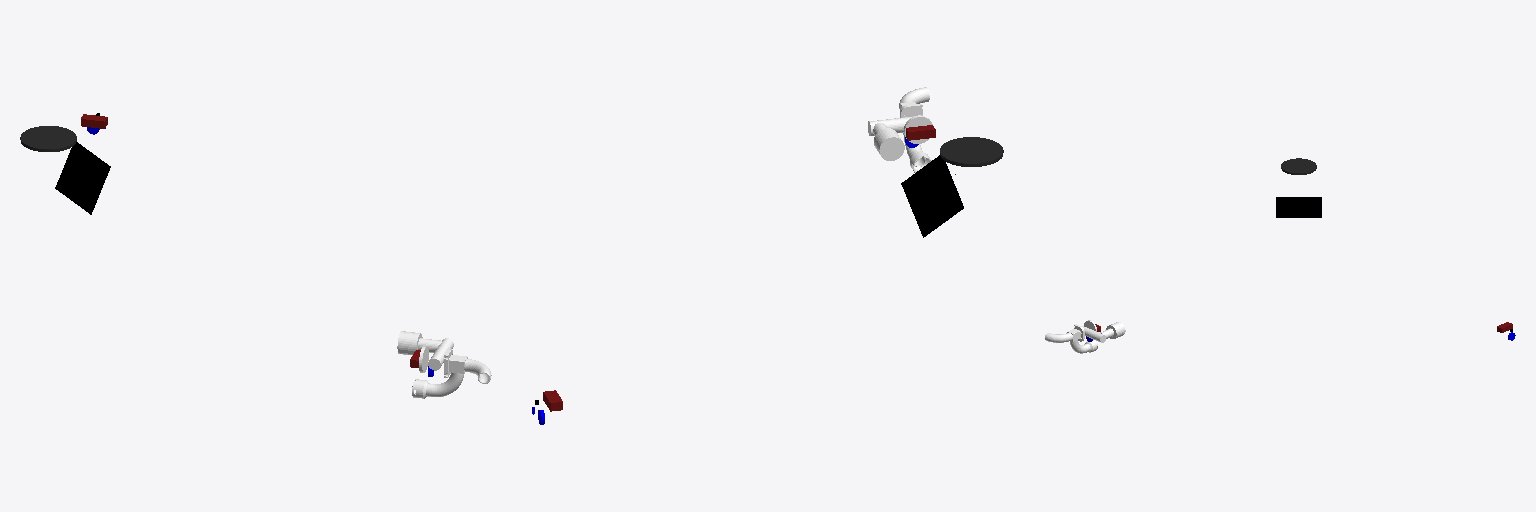
--- Render facts (derived) ---
Views: 3 orthographic renders of the robot side by side, from view 1: azimuth 30°, elevation 25°; view 2: azimuth 150°, elevation 25°; view 3: azimuth 270°, elevation 25°.
Robot: baxter_custom_white — 54 links, 53 joints (15 revolute, 38 fixed); root link base; default pose: every joint at zero.
Links seen in each view (by area): view 1: display, custom_vacuum_link, sonar_ring; view 2: display, sonar_ring, custom_vacuum_link, custom_vacuum_link_side2_base; view 3: display, custom_vacuum_link.
Link boxes in pixels (box(x1,y1,x2,y2)): display: box(55, 142, 110, 214); custom_vacuum_link: box(412, 349, 491, 398); sonar_ring: box(20, 126, 76, 151); display: box(901, 155, 963, 237); sonar_ring: box(940, 137, 1003, 166); custom_vacuum_link: box(899, 87, 931, 172); custom_vacuum_link_side2_base: box(874, 128, 904, 160); display: box(1276, 197, 1321, 217); custom_vacuum_link: box(1045, 324, 1097, 353).
Size in the robot's own frame: 0.9528 by 2.24 by 0.6349 metres.
1 mesh visuals loaded from 12 distinct referenced files (1 Collada DAE); not drawn: 18 (reference not matched to a file when rendering).

The robot description file, URDF, robot "baxter_custom_white":
<?xml version="1.0" ?>
<!-- =================================================================================== -->
<!-- |    This document was autogenerated by xacro from baxter_white_hand.urdf.xacro   | -->
<!-- |    EDITING THIS FILE BY HAND IS NOT RECOMMENDED                                 | -->
<!-- =================================================================================== -->
<robot name="baxter_custom_white" xmlns:xacro="http://ros.org/wiki/xacro">
  <link name="base">
  </link>
  <link name="torso">
    <visual>
      <origin rpy="0 0 0" xyz="0 0 0"/>
      <geometry>
        <mesh filename="package://baxter_description/meshes/torso/base_link.DAE"/>
      </geometry>
    </visual>
    <collision>
      <origin rpy="0 0 0" xyz="0 0 0"/>
      <geometry>
        <mesh filename="package://baxter_description/meshes/torso/base_link_collision.DAE"/>
      </geometry>
    </collision>
    <inertial>
      <origin rpy="0 0 0" xyz="0.000000 0.000000 0.000000"/>
      <mass value="35.336455"/>
      <inertia ixx="1.849155" ixy="-0.000354" ixz="-0.154188" iyy="1.662671" iyz="0.003292" izz="0.802239"/>
    </inertial>
  </link>
  <link name="left_torso_itb">
    <inertial>
      <origin rpy="0 0 0" xyz="0.000000 0.000000 0.000000"/>
      <mass value="0.0001"/>
      <inertia ixx="1e-08" ixy="0" ixz="0" iyy="1e-08" iyz="0" izz="1e-08"/>
    </inertial>
  </link>
  <link name="right_torso_itb">
    <inertial>
      <origin rpy="0 0 0" xyz="0.000000 0.000000 0.000000"/>
      <mass value="0.0001"/>
      <inertia ixx="1e-08" ixy="0" ixz="0" iyy="1e-08" iyz="0" izz="1e-08"/>
    </inertial>
  </link>
  <link name="pedestal">
    <visual>
      <origin rpy="0 0 0" xyz="0 0 0"/>
      <geometry>
        <mesh filename="package://baxter_description/meshes/base/PEDESTAL.DAE"/>
      </geometry>
      <material name="darkgray">
        <color rgba=".2 .2 .2 1"/>
      </material>
    </visual>
    <collision>
      <origin rpy="0 0 0" xyz="0 0 0"/>
      <geometry>
        <mesh filename="package://baxter_description/meshes/base/pedestal_link_collision.DAE"/>
      </geometry>
    </collision>
    <inertial>
      <origin rpy="0 0 0" xyz="0 0 0"/>
      <mass value="60.86397744"/>
      <inertia ixx="5.0635929" ixy="0.00103417" ixz="0.80199628" iyy="6.08689388" iyz="0.00105311" izz="4.96191932"/>
    </inertial>
  </link>
  <link name="head">
    <visual>
      <origin rpy="0 0 0" xyz="0 0 .00953"/>
      <geometry>
        <mesh filename="package://baxter_description/meshes/head/H0.DAE"/>
      </geometry>
      <material name="darkgray">
        <color rgba=".2 .2 .2 1"/>
      </material>
    </visual>
    <collision>
      <origin rpy="0 0 0" xyz="0.0 0 0.0"/>
      <geometry>
        <sphere radius="0.001"/>
      </geometry>
    </collision>
    <inertial>
      <origin rpy="0 0 0" xyz="0 0 0"/>
      <mass value="0.547767"/>
      <inertia ixx="0.004641" ixy="0.000159" ixz="0.000242" iyy="0.003295" iyz="-0.001324" izz="0.003415"/>
    </inertial>
  </link>
  <link name="sonar_ring">
    <visual>
      <origin rpy="0 0 0" xyz="-.0347 0 .00953"/>
      <geometry>
        <cylinder length="0.01" radius="0.085"/>
      </geometry>
      <material name="darkgray">
        <color rgba=".2 .2 .2 1"/>
      </material>
    </visual>
    <collision>
      <origin rpy="0 0 0" xyz="0.0 0 0.0"/>
      <geometry>
        <sphere radius="0.001"/>
      </geometry>
    </collision>
    <inertial>
      <origin rpy="0 0 0" xyz="0 0 0"/>
      <mass value="0.0001"/>
      <inertia ixx="1e-08" ixy="0" ixz="0" iyy="1e-08" iyz="0" izz="1e-08"/>
    </inertial>
  </link>
  <link name="screen">
    <visual>
      <origin rpy="0 -1.57079632679 0" xyz="0 -.00953 -.0347"/>
      <geometry>
        <mesh filename="package://baxter_description/meshes/head/H1.DAE"/>
      </geometry>
      <material name="darkred">
        <color rgba=".5 .1 .1 1"/>
      </material>
    </visual>
    <collision>
      <origin rpy="0 0 0" xyz="0.0 0 0.0"/>
      <geometry>
        <sphere radius="0.001"/>
      </geometry>
    </collision>
    <inertial>
      <origin rpy="0 0 0" xyz="0 0 0"/>
      <mass value="0.440171"/>
      <inertia ixx="0.004006" ixy="0.000230" ixz="0.000002" iyy="0.002800" iyz="0.000029" izz="0.001509"/>
    </inertial>
  </link>
  <link name="display">
    <visual>
      <origin rpy="0.2617993877991494 0 0" xyz="0 0 0"/>
      <geometry>
        <box size="0.218 0.16 0.001"/>
      </geometry>
      <material name="black">
        <color rgba="0 0 0 1"/>
      </material>
    </visual>
    <inertial>
      <origin rpy="0 0 0" xyz="0 0 0"/>
      <mass value="0.0001"/>
      <inertia ixx="1e-08" ixy="0" ixz="0" iyy="1e-08" iyz="0" izz="1e-08"/>
    </inertial>
  </link>
  <link name="head_camera">
    <inertial>
      <origin rpy="0 0 0" xyz="0 0 0"/>
      <mass value="0.0001"/>
      <inertia ixx="1e-08" ixy="0" ixz="0" iyy="1e-08" iyz="0" izz="1e-08"/>
    </inertial>
  </link>
  <link name="dummyhead1">
    <inertial>
      <origin rpy="0 0 0" xyz="0 0 0"/>
      <mass value="0.0001"/>
      <inertia ixx="1e-08" ixy="0" ixz="0" iyy="1e-08" iyz="0" izz="1e-08"/>
    </inertial>
  </link>
  <link name="collision_head_link_1">
    <visual>
      <origin rpy="0 0 0" xyz="0 0 0"/>
      <geometry>
        <sphere radius="0.001"/>
      </geometry>
      <material name="red">
        <color rgba="0.8 0.3 0.3 0.3"/>
      </material>
    </visual>
    <collision>
      <origin rpy="0 0 0.0" xyz="-0.07 -0.04 0.0"/>
      <geometry>
        <sphere radius="0.22"/>
      </geometry>
    </collision>
    <inertial>
      <origin rpy="0 0 0" xyz="0 0 0"/>
      <mass value="0.0001"/>
      <inertia ixx="1e-08" ixy="0" ixz="0" iyy="1e-08" iyz="0" izz="1e-08"/>
    </inertial>
  </link>
  <link name="collision_head_link_2">
    <visual>
      <origin rpy="0 0 0" xyz="0 0 0"/>
      <geometry>
        <sphere radius="0.001"/>
      </geometry>
      <material name="red">
        <color rgba="0.8 0.3 0.3 0.3"/>
      </material>
    </visual>
    <collision>
      <origin rpy="0 0 0" xyz="-0.07 0.04 0.00"/>
      <geometry>
        <sphere radius="0.22"/>
      </geometry>
    </collision>
    <inertial>
      <origin rpy="0 0 0" xyz="0 0 0"/>
      <mass value="0.0001"/>
      <inertia ixx="1e-08" ixy="0" ixz="0" iyy="1e-08" iyz="0" izz="1e-08"/>
    </inertial>
  </link>
  <joint name="collision_head_1" type="fixed">
    <origin rpy="0 0 0" xyz="0.11 0 0.75"/>
    <parent link="base"/>
    <child link="collision_head_link_1"/>
  </joint>
  <joint name="collision_head_2" type="fixed">
    <origin rpy="0 0 0" xyz="0.11 0 0.75"/>
    <parent link="base"/>
    <child link="collision_head_link_2"/>
  </joint>
  <joint name="dummy" type="fixed">
    <origin rpy="0 0 0" xyz="0 0 0"/>
    <parent link="head"/>
    <child link="dummyhead1"/>
  </joint>
  <joint name="torso_t0" type="fixed">
    <origin rpy="0 0 0" xyz="0 0 0"/>
    <parent link="base"/>
    <child link="torso"/>
    <limit effort="50000" lower="-3.01" upper="3.01" velocity="10000"/>
  </joint>
  <joint name="left_torso_itb_fixed" type="fixed">
    <origin rpy="-1.57079632679 3.1415 0" xyz="-0.08897 0.15593 0.389125"/>
    <parent link="torso"/>
    <child link="left_torso_itb"/>
  </joint>
  <joint name="right_torso_itb_fixed" type="fixed">
    <origin rpy="1.57079632679 0 0" xyz="-0.08897 -0.15593 0.389125"/>
    <parent link="torso"/>
    <child link="right_torso_itb"/>
  </joint>
  <joint name="pedestal_fixed" type="fixed">
    <origin rpy="0 0 0" xyz="0.0 0.0 0.0"/>
    <parent link="torso"/>
    <child link="pedestal"/>
  </joint>
  <joint name="head_pan" type="revolute">
    <origin rpy="0 0 0" xyz="0.06 0 0.686"/>
    <axis xyz="0 0 1"/>
    <parent link="torso"/>
    <child link="head"/>
    <limit effort="50000" lower="-1.57079632679" upper="1.57079632679" velocity="10000"/>
    <dynamics damping="0.7" friction="0.0"/>
  </joint>
  <joint name="head_nod" type="fixed">
    <origin rpy="1.75057 0 1.57079632679" xyz=".1227 0 0"/>
    <parent link="head"/>
    <child link="screen"/>
  </joint>
  <joint name="head_camera" type="fixed">
    <origin rpy="1.75057 0 1.57079632679" xyz="0.12839 0 0.06368"/>
    <parent link="head"/>
    <child link="head_camera"/>
  </joint>
  <joint name="display_joint" type="fixed">
    <origin rpy="0 0 0" xyz="0.0 -0.016 0.0"/>
    <parent link="screen"/>
    <child link="display"/>
  </joint>
  <joint name="sonar_s0" type="fixed">
    <origin rpy="0 0 0" xyz="0.0947 0 .817"/>
    <axis xyz="0 0 1"/>
    <parent link="torso"/>
    <child link="sonar_ring"/>
  </joint>
  <link name="right_arm_mount">
    <!-- all defaults -->
    <gravity>0</gravity>
    <inertial>
      <origin rpy="0 0 0" xyz="0 0 0"/>
      <mass value="0.0001"/>
      <inertia ixx="1e-08" ixy="0" ixz="0" iyy="1e-08" iyz="0" izz="1e-08"/>
    </inertial>
  </link>
  <link name="right_upper_shoulder">
    <gravity>0</gravity>
    <visual>
      <origin rpy="0 0 0" xyz="0 0 0"/>
      <geometry>
        <mesh filename="package://baxter_description/meshes/upper_shoulder/S0.DAE"/>
      </geometry>
      <material name="darkred">
        <color rgba=".5 .1 .1 1"/>
      </material>
    </visual>
    <collision>
      <origin rpy="0 0 0" xyz="0 0 0.1361"/>
      <geometry>
        <cylinder length="0.2722" radius="0.06"/>
      </geometry>
    </collision>
    <inertial>
      <origin rpy="0 0 0" xyz="0.01783 0.00086 0.19127"/>
      <mass value="5.70044"/>
      <inertia ixx="0.04709102262" ixy="0.00012787556" ixz="0.00614870039" iyy="0.03766976455" iyz="0.00078086899" izz="0.03595988478"/>
    </inertial>
  </link>
  <link name="right_lower_shoulder">
    <gravity>0</gravity>
    <visual>
      <origin rpy="0 0 0" xyz="0 0 0"/>
      <geometry>
        <mesh filename="package://baxter_description/meshes/lower_shoulder/S1.DAE"/>
      </geometry>
      <material name="darkred">
        <color rgba=".5 .1 .1 1"/>
      </material>
    </visual>
    <collision>
      <origin rpy="0 0 0" xyz="0 0 0"/>
      <geometry>
        <cylinder length="0.12" radius="0.06"/>
      </geometry>
    </collision>
    <inertial>
      <origin rpy="0 0 0" xyz="0.06845 0.00269 -0.00529"/>
      <mass value="3.22698"/>
      <inertia ixx="0.01175209419" ixy="-0.00030096398" ixz="0.00207675762" iyy="0.0278859752" iyz="-0.00018821993" izz="0.02078749298"/>
    </inertial>
  </link>
  <link name="right_upper_elbow">
    <gravity>0</gravity>
    <visual>
      <origin rpy="0 0 0" xyz="0 0 0"/>
      <geometry>
        <mesh filename="package://baxter_description/meshes/upper_elbow/E0.DAE"/>
      </geometry>
      <material name="darkred">
        <color rgba=".5 .1 .1 1"/>
      </material>
    </visual>
    <collision>
      <origin rpy="0 0 0" xyz="0 0 -0.0535"/>
      <geometry>
        <cylinder length="0.107" radius="0.06"/>
      </geometry>
    </collision>
    <inertial>
      <origin rpy="0 0 0" xyz="-0.00276 0.00132 0.18086"/>
      <mass value="4.31272"/>
      <inertia ixx="0.02661733557" ixy="0.00029270634" ixz="0.00392189887" iyy="0.02844355207" iyz="0.0010838933" izz="0.01248008322"/>
    </inertial>
  </link>
  <link name="right_upper_elbow_visual">
    <gravity>0</gravity>
    <collision>
      <origin rpy="0 0 0" xyz="0 0 0.1365"/>
      <geometry>
        <cylinder length="0.273" radius="0.06"/>
      </geometry>
    </collision>
    <inertial>
      <origin rpy="0 0 0" xyz="0 0 0"/>
      <mass value="0.0001"/>
      <inertia ixx="1e-08" ixy="0" ixz="0" iyy="1e-08" iyz="0" izz="1e-08"/>
    </inertial>
  </link>
  <link name="right_lower_elbow">
    <gravity>0</gravity>
    <visual>
      <origin rpy="0 0 0" xyz="0 0 0"/>
      <geometry>
        <mesh filename="package://baxter_description/meshes/lower_elbow/E1.DAE"/>
      </geometry>
      <material name="darkred">
        <color rgba=".5 .1 .1 1"/>
      </material>
    </visual>
    <collision>
      <origin rpy="0 0 0" xyz="0.0 0.0 0.0"/>
      <geometry>
        <cylinder length="0.10" radius="0.06"/>
      </geometry>
    </collision>
    <inertial>
      <origin rpy="0 0 0" xyz="0.02611 0.00159 -0.01117"/>
      <mass value="2.07206"/>
      <inertia ixx="0.00711582686" ixy="0.00036036173" ixz="0.0007459496" iyy="0.01318227876" iyz="-0.00019663418" izz="0.00926852064"/>
    </inertial>
  </link>
  <link name="right_upper_forearm">
    <gravity>0</gravity>
    <visual>
      <origin rpy="0 0 0" xyz="0 0 0"/>
      <geometry>
        <mesh filename="package://baxter_description/meshes/upper_forearm/W0.DAE"/>
      </geometry>
      <material name="darkred">
        <color rgba=".5 .1 .1 1"/>
      </material>
    </visual>
    <collision>
      <origin rpy="0 0 0" xyz="0 0 -0.044"/>
      <geometry>
        <cylinder length="0.088" radius="0.06"/>
      </geometry>
    </collision>
    <inertial>
      <origin rpy="0 0 0" xyz="-0.00168 0.0046 0.13952"/>
      <mass value="2.24665"/>
      <inertia ixx="0.01667742825" ixy="0.00018403705" ixz="0.00018657629" iyy="0.01675457264" iyz="-0.00064732352" izz="0.0037463115"/>
    </inertial>
  </link>
  <link name="right_upper_forearm_visual">
    <gravity>0</gravity>
    <collision>
      <origin rpy="0 0 0" xyz="0 0 0.136"/>
      <geometry>
        <cylinder length="0.272" radius="0.06"/>
      </geometry>
    </collision>
    <inertial>
      <origin rpy="0 0 0" xyz="0 0 0"/>
      <mass value="0.0001"/>
      <inertia ixx="1e-08" ixy="0" ixz="0" iyy="1e-08" iyz="0" izz="1e-08"/>
    </inertial>
  </link>
  <link name="right_arm_itb">
    <gravity>0</gravity>
    <inertial>
      <origin rpy="0 0 0" xyz="0.000000 0.000000 0.000000"/>
      <mass value="0.0001"/>
      <inertia ixx="1e-08" ixy="0" ixz="0" iyy="1e-08" iyz="0" izz="1e-08"/>
    </inertial>
  </link>
  <link name="right_lower_forearm">
    <gravity>0</gravity>
    <visual>
      <origin rpy="0 0 0" xyz="0 0 0"/>
      <geometry>
        <mesh filename="package://baxter_description/meshes/lower_forearm/W1.DAE"/>
      </geometry>
      <material name="darkred">
        <color rgba=".5 .1 .1 1"/>
      </material>
    </visual>
    <collision>
      <origin rpy="0 0 0" xyz="0 0 0"/>
      <geometry>
        <cylinder length="0.10" radius="0.06"/>
      </geometry>
    </collision>
    <inertial>
      <origin rpy="0 0 0" xyz="0.06041 0.00697 0.006"/>
      <mass value="1.60979"/>
      <inertia ixx="0.00387607152" ixy="-0.00044384784" ixz="-0.00021115038" iyy="0.00700537914" iyz="0.00015348067" izz="0.0055275524"/>
    </inertial>
  </link>
  <link name="right_wrist">
    <gravity>0</gravity>
    <visual>
      <origin rpy="0 0 0" xyz="0 0 0"/>
      <geometry>
        <mesh filename="package://baxter_description/meshes/wrist/W2.DAE"/>
      </geometry>
      <material name="lightgrey">
        <color rgba=".1 .1 .1 1"/>
      </material>
    </visual>
    <collision>
      <origin rpy="0 0 0" xyz="0 0 0"/>
      <geometry>
        <cylinder length="0.165" radius="0.06"/>
      </geometry>
    </collision>
    <inertial>
      <origin rpy="0 0 0" xyz="0.00198 0.00125 0.01855"/>
      <mass value="0.35093"/>
      <inertia ixx="0.00025289155" ixy="0.00000575311" ixz="-0.00000159345" iyy="0.0002688601" iyz="-0.00000519818" izz="0.0003074118"/>
    </inertial>
  </link>
  <link name="right_hand">
    <gravity>0</gravity>
    <collision>
      <origin rpy="0 0 0" xyz="0 0 -0.0232"/>
      <geometry>
        <cylinder length="0.0464" radius="0.04"/>
      </geometry>
    </collision>
    <inertial>
      <origin rpy="0 0 0" xyz="0.01093 0.00042 -0.01532"/>
      <mass value="0.19125"/>
      <inertia ixx="0.00017588" ixy="0.00000147073" ixz="0.0000243633" iyy="0.00021166377" iyz="0.00000172689" izz="0.00023745397"/>
    </inertial>
  </link>
  <link name="right_hand_camera">
    <gravity>0</gravity>
    <visual>
      <origin rpy="0 0 0" xyz="0 0 0"/>
      <geometry>
        <cylinder length="0.01" radius="0.02"/>
      </geometry>
      <material name="blue">
        <color rgba="0 0 1 0.8"/>
      </material>
    </visual>
    <inertial>
      <origin rpy="0 0 0" xyz="0 0 0"/>
      <mass value="0.0001"/>
      <inertia ixx="1e-08" ixy="0" ixz="0" iyy="1e-08" iyz="0" izz="1e-08"/>
    </inertial>
  </link>
  <link name="right_hand_camera_axis">
    <gravity>0</gravity>
    <inertial>
      <origin rpy="0 0 0" xyz="0 0 0"/>
      <mass value="0.0001"/>
      <inertia ixx="1e-08" ixy="0" ixz="0" iyy="1e-08" iyz="0" izz="1e-08"/>
    </inertial>
  </link>
  <link name="right_hand_range">
    <gravity>0</gravity>
    <visual>
      <origin rpy="0 0 0" xyz="0 0 0"/>
      <geometry>
        <box size="0.005 .02 .005"/>
      </geometry>
      <material name="blue">
        <color rgba="0 0 1 0.8"/>
      </material>
    </visual>
    <inertial>
      <origin rpy="0 0 0" xyz="0 0 0"/>
      <mass value="0.0001"/>
      <inertia ixx="1e-08" ixy="0" ixz="0" iyy="1e-08" iyz="0" izz="1e-08"/>
    </inertial>
  </link>
  <link name="right_hand_accelerometer">
    <gravity>0</gravity>
    <visual>
      <origin rpy="0 0 0" xyz="0 0 0"/>
      <geometry>
        <box size="0.01 0.01 0.01"/>
      </geometry>
      <material name="black">
        <color rgba="0 0 0 1"/>
      </material>
    </visual>
    <inertial>
      <origin rpy="0 0 0" xyz="0.000000 0.000000 0.000000"/>
      <mass value="0.0001"/>
      <inertia ixx="1e-08" ixy="0" ixz="0" iyy="1e-08" iyz="0" izz="1e-08"/>
    </inertial>
  </link>
  <link name="right_gripper_base">
    <gravity>0</gravity>
    <visual>
      <origin rpy="0 0 0" xyz="0 0 -0.02"/>
      <geometry>
        <box size="0.025 0.075 0.035"/>
      </geometry>
      <material name="darkred">
        <color rgba=".5 .1 .1 1"/>
      </material>
    </visual>
    <inertial>
      <origin rpy="0 0 0" xyz="0.000000 0.000000 0.000000"/>
      <mass value="0.0001"/>
      <inertia ixx="1e-08" ixy="0" ixz="0" iyy="1e-08" iyz="0" izz="1e-08"/>
    </inertial>
  </link>
  <link name="right_gripper">
    <gravity>0</gravity>
    <visual>
      <origin rpy="0 0 0" xyz="0 0 0"/>
      <geometry>
        <box size="0.01 0.01 0.01"/>
      </geometry>
      <material name="black">
        <color rgba="0 0 0 1"/>
      </material>
    </visual>
    <inertial>
      <origin rpy="0 0 0" xyz="0.000000 0.000000 0.000000"/>
      <mass value="0.0001"/>
      <inertia ixx="1e-08" ixy="0" ixz="0" iyy="1e-08" iyz="0" izz="1e-08"/>
    </inertial>
  </link>
  <joint name="right_torso_arm_mount" type="fixed">
    <origin rpy="0 0 -0.7854" xyz="0.024645 -0.219645 0.118588"/>
    <parent link="torso"/>
    <child link="right_arm_mount"/>
  </joint>
  <joint name="right_s0" type="revolute">
    <origin rpy="0 0 0" xyz="0.055695 0 0.011038"/>
    <axis xyz="0 0 1"/>
    <parent link="right_arm_mount"/>
    <child link="right_upper_shoulder"/>
    <limit effort="50.0" lower="-1.70167993878" upper="1.70167993878" velocity="1.5"/>
    <dynamics damping="0.7" friction="0.0"/>
  </joint>
  <joint name="right_s1" type="revolute">
    <origin rpy="-1.57079632679 0 0" xyz="0.069 0 0.27035"/>
    <axis xyz="0 0 1"/>
    <parent link="right_upper_shoulder"/>
    <child link="right_lower_shoulder"/>
    <limit effort="100.0" lower="-2.147" upper="1.047" velocity="1.5"/>
    <dynamics damping="0.7" friction="0.0"/>
  </joint>
  <joint name="right_e0" type="revolute">
    <origin rpy="1.57079632679 0 1.57079632679" xyz="0.102 0 0"/>
    <axis xyz="0 0 1"/>
    <parent link="right_lower_shoulder"/>
    <child link="right_upper_elbow"/>
    <limit effort="50.0" lower="-3.05417993878" upper="3.05417993878" velocity="1.5"/>
    <dynamics damping="0.7" friction="0.0"/>
  </joint>
  <joint name="right_e0_fixed" type="fixed">
    <origin rpy="1.57079632679 0 1.57079632679" xyz="0.107 0 0"/>
    <axis xyz="0 0 1"/>
    <parent link="right_lower_shoulder"/>
    <child link="right_upper_elbow_visual"/>
  </joint>
  <joint name="right_e1" type="revolute">
    <origin rpy="-1.57079632679 -1.57079632679 0" xyz="0.069 0 0.26242"/>
    <axis xyz="0 0 1"/>
    <parent link="right_upper_elbow"/>
    <child link="right_lower_elbow"/>
    <limit effort="50.0" lower="-0.05" upper="2.618" velocity="1.5"/>
    <dynamics damping="0.7" friction="0.0"/>
  </joint>
  <joint name="right_w0" type="revolute">
    <origin rpy="1.57079632679 0 1.57079632679" xyz="0.10359 0 0"/>
    <axis xyz="0 0 1"/>
    <parent link="right_lower_elbow"/>
    <child link="right_upper_forearm"/>
    <limit effort="15.0" lower="-3.059" upper="3.059" velocity="4.0"/>
    <dynamics damping="0.7" friction="0.0"/>
  </joint>
  <joint name="right_w0_fixed" type="fixed">
    <origin rpy="1.57079632679 0 1.57079632679" xyz="0.088 0 0"/>
    <axis xyz="0 0 1"/>
    <parent link="right_lower_elbow"/>
    <child link="right_upper_forearm_visual"/>
  </joint>
  <joint name="right_w0_to_itb_fixed" type="fixed">
    <origin rpy="-1.57079632679 0 1.57079632679" xyz="-0.0565 0 0.12"/>
    <axis xyz="0 0 1"/>
    <parent link="right_upper_forearm"/>
    <child link="right_arm_itb"/>
  </joint>
  <joint name="right_w1" type="revolute">
    <origin rpy="-1.57079632679 -1.57079632679 0" xyz="0.01 0 0.2707"/>
    <axis xyz="0 0 1"/>
    <parent link="right_upper_forearm"/>
    <child link="right_lower_forearm"/>
    <limit effort="15.0" lower="-1.57079632679" upper="2.094" velocity="4.0"/>
    <dynamics damping="0.7" friction="0.0"/>
  </joint>
  <joint name="right_w2" type="revolute">
    <origin rpy="1.57079632679 0 1.57079632679" xyz="0.115975 0 0"/>
    <axis xyz="0 0 1"/>
    <parent link="right_lower_forearm"/>
    <child link="right_wrist"/>
    <limit effort="15.0" lower="-3.059" upper="3.059" velocity="4.0"/>
    <dynamics damping="0.7" friction="0.0"/>
  </joint>
  <joint name="right_hand" type="fixed">
    <origin rpy="0 0 0" xyz="0 0 0.11355"/>
    <axis xyz="0 0 1"/>
    <parent link="right_wrist"/>
    <child link="right_hand"/>
    <dynamics damping="0.7" friction="0.0"/>
  </joint>
  <joint name="right_hand_camera" type="fixed">
    <origin rpy="0 0 -1.57079633" xyz="0.03825 0.012 0.015355"/>
    <parent link="right_hand"/>
    <child link="right_hand_camera"/>
  </joint>
  <joint name="right_hand_camera_axis" type="fixed">
    <origin rpy="0 0 0" xyz="0.03825 0.012 0.015355"/>
    <parent link="right_hand"/>
    <child link="right_hand_camera_axis"/>
  </joint>
  <joint name="right_hand_range" type="fixed">
    <origin rpy="0 -1.57079632679 -1.57079632679" xyz="0.032 -0.020245 0.0288"/>
    <parent link="right_hand"/>
    <child link="right_hand_range"/>
  </joint>
  <joint name="right_hand_accelerometer" type="fixed">
    <origin rpy="0 0 0" xyz="0.00198 0.000133 -0.0146"/>
    <parent link="right_hand"/>
    <child link="right_hand_accelerometer"/>
  </joint>
  <joint name="right_gripper_base" type="fixed">
    <origin rpy="0 0 0" xyz="0 0 0"/>
    <parent link="right_hand"/>
    <child link="right_gripper_base"/>
  </joint>
  <joint name="right_endpoint" type="fixed">
    <origin rpy="0 0 0" xyz="0.0 0 0.025"/>
    <parent link="right_gripper_base"/>
    <child link="right_gripper"/>
  </joint>
  <link name="left_arm_mount">
    <!-- all defaults -->
    <gravity>0</gravity>
    <inertial>
      <origin rpy="0 0 0" xyz="0 0 0"/>
      <mass value="0.0001"/>
      <inertia ixx="1e-08" ixy="0" ixz="0" iyy="1e-08" iyz="0" izz="1e-08"/>
    </inertial>
  </link>
  <link name="left_upper_shoulder">
    <gravity>0</gravity>
    <visual>
      <origin rpy="0 0 0" xyz="0 0 0"/>
      <geometry>
        <mesh filename="package://baxter_description/meshes/upper_shoulder/S0.DAE"/>
      </geometry>
      <material name="darkred">
        <color rgba=".5 .1 .1 1"/>
      </material>
    </visual>
    <collision>
      <origin rpy="0 0 0" xyz="0 0 0.1361"/>
      <geometry>
        <cylinder length="0.2722" radius="0.06"/>
      </geometry>
    </collision>
    <inertial>
      <origin rpy="0 0 0" xyz="0.01783 0.00086 0.19127"/>
      <mass value="5.70044"/>
      <inertia ixx="0.04709102262" ixy="0.00012787556" ixz="0.00614870039" iyy="0.03766976455" iyz="0.00078086899" izz="0.03595988478"/>
    </inertial>
  </link>
  <link name="left_lower_shoulder">
    <gravity>0</gravity>
    <visual>
      <origin rpy="0 0 0" xyz="0 0 0"/>
      <geometry>
        <mesh filename="package://baxter_description/meshes/lower_shoulder/S1.DAE"/>
      </geometry>
      <material name="darkred">
        <color rgba=".5 .1 .1 1"/>
      </material>
    </visual>
    <collision>
      <origin rpy="0 0 0" xyz="0 0 0"/>
      <geometry>
        <cylinder length="0.12" radius="0.06"/>
      </geometry>
    </collision>
    <inertial>
      <origin rpy="0 0 0" xyz="0.06845 0.00269 -0.00529"/>
      <mass value="3.22698"/>
      <inertia ixx="0.01175209419" ixy="-0.00030096398" ixz="0.00207675762" iyy="0.0278859752" iyz="-0.00018821993" izz="0.02078749298"/>
    </inertial>
  </link>
  <link name="left_upper_elbow">
    <gravity>0</gravity>
    <visual>
      <origin rpy="0 0 0" xyz="0 0 0"/>
      <geometry>
        <mesh filename="package://baxter_description/meshes/upper_elbow/E0.DAE"/>
      </geometry>
      <material name="darkred">
        <color rgba=".5 .1 .1 1"/>
      </material>
    </visual>
    <collision>
      <origin rpy="0 0 0" xyz="0 0 -0.0535"/>
      <geometry>
        <cylinder length="0.107" radius="0.06"/>
      </geometry>
    </collision>
    <inertial>
      <origin rpy="0 0 0" xyz="-0.00276 0.00132 0.18086"/>
      <mass value="4.31272"/>
      <inertia ixx="0.02661733557" ixy="0.00029270634" ixz="0.00392189887" iyy="0.02844355207" iyz="0.0010838933" izz="0.01248008322"/>
    </inertial>
  </link>
  <link name="left_upper_elbow_visual">
    <gravity>0</gravity>
    <collision>
      <origin rpy="0 0 0" xyz="0 0 0.1365"/>
      <geometry>
        <cylinder length="0.273" radius="0.06"/>
      </geometry>
    </collision>
    <inertial>
      <origin rpy="0 0 0" xyz="0 0 0"/>
      <mass value="0.0001"/>
      <inertia ixx="1e-08" ixy="0" ixz="0" iyy="1e-08" iyz="0" izz="1e-08"/>
    </inertial>
  </link>
  <link name="left_lower_elbow">
    <gravity>0</gravity>
    <visual>
      <origin rpy="0 0 0" xyz="0 0 0"/>
      <geometry>
        <mesh filename="package://baxter_description/meshes/lower_elbow/E1.DAE"/>
      </geometry>
      <material name="darkred">
        <color rgba=".5 .1 .1 1"/>
      </material>
    </visual>
    <collision>
      <origin rpy="0 0 0" xyz="0.0 0.0 0.0"/>
      <geometry>
        <cylinder length="0.10" radius="0.06"/>
      </geometry>
    </collision>
    <inertial>
      <origin rpy="0 0 0" xyz="0.02611 0.00159 -0.01117"/>
      <mass value="2.07206"/>
      <inertia ixx="0.00711582686" ixy="0.00036036173" ixz="0.0007459496" iyy="0.01318227876" iyz="-0.00019663418" izz="0.00926852064"/>
    </inertial>
  </link>
  <link name="left_upper_forearm">
    <gravity>0</gravity>
    <visual>
      <origin rpy="0 0 0" xyz="0 0 0"/>
      <geometry>
        <mesh filename="package://baxter_description/meshes/upper_forearm/W0.DAE"/>
      </geometry>
      <material name="darkred">
        <color rgba=".5 .1 .1 1"/>
      </material>
    </visual>
    <collision>
      <origin rpy="0 0 0" xyz="0 0 -0.044"/>
      <geometry>
        <cylinder length="0.088" radius="0.06"/>
      </geometry>
    </collision>
    <inertial>
      <origin rpy="0 0 0" xyz="-0.00168 0.0046 0.13952"/>
      <mass value="2.24665"/>
      <inertia ixx="0.01667742825" ixy="0.00018403705" ixz="0.00018657629" iyy="0.01675457264" iyz="-0.00064732352" izz="0.0037463115"/>
    </inertial>
  </link>
  <link name="left_upper_forearm_visual">
    <gravity>0</gravity>
    <collision>
      <origin rpy="0 0 0" xyz="0 0 0.136"/>
      <geometry>
        <cylinder length="0.272" radius="0.06"/>
      </geometry>
    </collision>
    <inertial>
      <origin rpy="0 0 0" xyz="0 0 0"/>
      <mass value="0.0001"/>
      <inertia ixx="1e-08" ixy="0" ixz="0" iyy="1e-08" iyz="0" izz="1e-08"/>
    </inertial>
  </link>
  <link name="left_arm_itb">
    <gravity>0</gravity>
    <inertial>
      <origin rpy="0 0 0" xyz="0.000000 0.000000 0.000000"/>
      <mass value="0.0001"/>
      <inertia ixx="1e-08" ixy="0" ixz="0" iyy="1e-08" iyz="0" izz="1e-08"/>
    </inertial>
  </link>
  <link name="left_lower_forearm">
    <gravity>0</gravity>
    <visual>
      <origin rpy="0 0 0" xyz="0 0 0"/>
      <geometry>
        <mesh filename="package://baxter_description/meshes/lower_forearm/W1.DAE"/>
      </geometry>
      <material name="darkred">
        <color rgba=".5 .1 .1 1"/>
      </material>
    </visual>
    <collision>
      <origin rpy="0 0 0" xyz="0 0 0"/>
      <geometry>
        <cylinder length="0.10" radius="0.06"/>
      </geometry>
    </collision>
    <inertial>
      <origin rpy="0 0 0" xyz="0.06041 0.00697 0.006"/>
      <mass value="1.60979"/>
      <inertia ixx="0.00387607152" ixy="-0.00044384784" ixz="-0.00021115038" iyy="0.00700537914" iyz="0.00015348067" izz="0.0055275524"/>
    </inertial>
  </link>
  <link name="left_wrist">
    <gravity>0</gravity>
    <visual>
      <origin rpy="0 0 0" xyz="0 0 0"/>
      <geometry>
        <mesh filename="package://baxter_description/meshes/wrist/W2.DAE"/>
      </geometry>
      <material name="lightgrey">
        <color rgba=".1 .1 .1 1"/>
      </material>
    </visual>
    <collision>
      <origin rpy="0 0 0" xyz="0 0 0"/>
      <geometry>
        <cylinder length="0.165" radius="0.06"/>
      </geometry>
    </collision>
    <inertial>
      <origin rpy="0 0 0" xyz="0.00198 0.00125 0.01855"/>
      <mass value="0.35093"/>
      <inertia ixx="0.00025289155" ixy="0.00000575311" ixz="-0.00000159345" iyy="0.0002688601" iyz="-0.00000519818" izz="0.0003074118"/>
    </inertial>
  </link>
  <link name="left_hand">
    <gravity>0</gravity>
    <collision>
      <origin rpy="0 0 0" xyz="0 0 -0.0232"/>
      <geometry>
        <cylinder length="0.0464" radius="0.04"/>
      </geometry>
    </collision>
    <inertial>
      <origin rpy="0 0 0" xyz="0.01093 0.00042 -0.01532"/>
      <mass value="0.19125"/>
      <inertia ixx="0.00017588" ixy="0.00000147073" ixz="0.0000243633" iyy="0.00021166377" iyz="0.00000172689" izz="0.00023745397"/>
    </inertial>
  </link>
  <link name="left_hand_camera">
    <gravity>0</gravity>
    <visual>
      <origin rpy="0 0 0" xyz="0 0 0"/>
      <geometry>
        <cylinder length="0.01" radius="0.02"/>
      </geometry>
      <material name="blue">
        <color rgba="0 0 1 0.8"/>
      </material>
    </visual>
    <inertial>
      <origin rpy="0 0 0" xyz="0 0 0"/>
      <mass value="0.0001"/>
      <inertia ixx="1e-08" ixy="0" ixz="0" iyy="1e-08" iyz="0" izz="1e-08"/>
    </inertial>
  </link>
  <link name="left_hand_camera_axis">
    <gravity>0</gravity>
    <inertial>
      <origin rpy="0 0 0" xyz="0 0 0"/>
      <mass value="0.0001"/>
      <inertia ixx="1e-08" ixy="0" ixz="0" iyy="1e-08" iyz="0" izz="1e-08"/>
    </inertial>
  </link>
  <link name="left_hand_range">
    <gravity>0</gravity>
    <visual>
      <origin rpy="0 0 0" xyz="0 0 0"/>
      <geometry>
        <box size="0.005 .02 .005"/>
      </geometry>
      <material name="blue">
        <color rgba="0 0 1 0.8"/>
      </material>
    </visual>
    <inertial>
      <origin rpy="0 0 0" xyz="0 0 0"/>
      <mass value="0.0001"/>
      <inertia ixx="1e-08" ixy="0" ixz="0" iyy="1e-08" iyz="0" izz="1e-08"/>
    </inertial>
  </link>
  <link name="left_hand_accelerometer">
    <gravity>0</gravity>
    <visual>
      <origin rpy="0 0 0" xyz="0 0 0"/>
      <geometry>
        <box size="0.01 0.01 0.01"/>
      </geometry>
      <material name="black">
        <color rgba="0 0 0 1"/>
      </material>
    </visual>
    <inertial>
      <origin rpy="0 0 0" xyz="0.000000 0.000000 0.000000"/>
      <mass value="0.0001"/>
      <inertia ixx="1e-08" ixy="0" ixz="0" iyy="1e-08" iyz="0" izz="1e-08"/>
    </inertial>
  </link>
  <link name="left_gripper_base">
    <gravity>0</gravity>
    <visual>
      <origin rpy="0 0 0" xyz="0 0 -0.02"/>
      <geometry>
        <box size="0.025 0.075 0.035"/>
      </geometry>
      <material name="darkred">
        <color rgba=".5 .1 .1 1"/>
      </material>
    </visual>
    <inertial>
      <origin rpy="0 0 0" xyz="0.000000 0.000000 0.000000"/>
      <mass value="0.0001"/>
      <inertia ixx="1e-08" ixy="0" ixz="0" iyy="1e-08" iyz="0" izz="1e-08"/>
    </inertial>
  </link>
  <link name="left_gripper">
    <gravity>0</gravity>
    <visual>
      <origin rpy="0 0 0" xyz="0 0 0"/>
      <geometry>
        <box size="0.01 0.01 0.01"/>
      </geometry>
      <material name="black">
        <color rgba="0 0 0 1"/>
      </material>
    </visual>
    <inertial>
      <origin rpy="0 0 0" xyz="0.000000 0.000000 0.000000"/>
      <mass value="0.0001"/>
      <inertia ixx="1e-08" ixy="0" ixz="0" iyy="1e-08" iyz="0" izz="1e-08"/>
    </inertial>
  </link>
  <joint name="left_torso_arm_mount" type="fixed">
    <origin rpy="0 0 0.7854" xyz="0.024645 0.219645 0.118588"/>
    <parent link="torso"/>
    <child link="left_arm_mount"/>
  </joint>
  <joint name="left_s0" type="revolute">
    <origin rpy="0 0 0" xyz="0.055695 0 0.011038"/>
    <axis xyz="0 0 1"/>
    <parent link="left_arm_mount"/>
    <child link="left_upper_shoulder"/>
    <limit effort="50.0" lower="-1.70167993878" upper="1.70167993878" velocity="1.5"/>
    <dynamics damping="0.7" friction="0.0"/>
  </joint>
  <joint name="left_s1" type="revolute">
    <origin rpy="-1.57079632679 0 0" xyz="0.069 0 0.27035"/>
    <axis xyz="0 0 1"/>
    <parent link="left_upper_shoulder"/>
    <child link="left_lower_shoulder"/>
    <limit effort="100.0" lower="-2.147" upper="1.047" velocity="1.5"/>
    <dynamics damping="0.7" friction="0.0"/>
  </joint>
  <joint name="left_e0" type="revolute">
    <origin rpy="1.57079632679 0 1.57079632679" xyz="0.102 0 0"/>
    <axis xyz="0 0 1"/>
    <parent link="left_lower_shoulder"/>
    <child link="left_upper_elbow"/>
    <limit effort="50.0" lower="-3.05417993878" upper="3.05417993878" velocity="1.5"/>
    <dynamics damping="0.7" friction="0.0"/>
  </joint>
  <joint name="left_e0_fixed" type="fixed">
    <origin rpy="1.57079632679 0 1.57079632679" xyz="0.107 0 0"/>
    <axis xyz="0 0 1"/>
    <parent link="left_lower_shoulder"/>
    <child link="left_upper_elbow_visual"/>
  </joint>
  <joint name="left_e1" type="revolute">
    <origin rpy="-1.57079632679 -1.57079632679 0" xyz="0.069 0 0.26242"/>
    <axis xyz="0 0 1"/>
    <parent link="left_upper_elbow"/>
    <child link="left_lower_elbow"/>
    <limit effort="50.0" lower="-0.05" upper="2.618" velocity="1.5"/>
    <dynamics damping="0.7" friction="0.0"/>
  </joint>
  <joint name="left_w0" type="revolute">
    <origin rpy="1.57079632679 0 1.57079632679" xyz="0.10359 0 0"/>
    <axis xyz="0 0 1"/>
    <parent link="left_lower_elbow"/>
    <child link="left_upper_forearm"/>
    <limit effort="15.0" lower="-3.059" upper="3.059" velocity="4.0"/>
    <dynamics damping="0.7" friction="0.0"/>
  </joint>
  <joint name="left_w0_fixed" type="fixed">
    <origin rpy="1.57079632679 0 1.57079632679" xyz="0.088 0 0"/>
    <axis xyz="0 0 1"/>
    <parent link="left_lower_elbow"/>
    <child link="left_upper_forearm_visual"/>
  </joint>
  <joint name="left_w0_to_itb_fixed" type="fixed">
    <origin rpy="-1.57079632679 0 1.57079632679" xyz="-0.0565 0 0.12"/>
    <axis xyz="0 0 1"/>
    <parent link="left_upper_forearm"/>
    <child link="left_arm_itb"/>
  </joint>
  <joint name="left_w1" type="revolute">
    <origin rpy="-1.57079632679 -1.57079632679 0" xyz="0.01 0 0.2707"/>
    <axis xyz="0 0 1"/>
    <parent link="left_upper_forearm"/>
    <child link="left_lower_forearm"/>
    <limit effort="15.0" lower="-1.57079632679" upper="2.094" velocity="4.0"/>
    <dynamics damping="0.7" friction="0.0"/>
  </joint>
  <joint name="left_w2" type="revolute">
    <origin rpy="1.57079632679 0 1.57079632679" xyz="0.115975 0 0"/>
    <axis xyz="0 0 1"/>
    <parent link="left_lower_forearm"/>
    <child link="left_wrist"/>
    <limit effort="15.0" lower="-3.059" upper="3.059" velocity="4.0"/>
    <dynamics damping="0.7" friction="0.0"/>
  </joint>
  <joint name="left_hand" type="fixed">
    <origin rpy="0 0 0" xyz="0 0 0.11355"/>
    <axis xyz="0 0 1"/>
    <parent link="left_wrist"/>
    <child link="left_hand"/>
    <dynamics damping="0.7" friction="0.0"/>
  </joint>
  <joint name="left_hand_camera" type="fixed">
    <origin rpy="0 0 -1.57079633" xyz="0.03825 0.012 0.015355"/>
    <parent link="left_hand"/>
    <child link="left_hand_camera"/>
  </joint>
  <joint name="left_hand_camera_axis" type="fixed">
    <origin rpy="0 0 0" xyz="0.03825 0.012 0.015355"/>
    <parent link="left_hand"/>
    <child link="left_hand_camera_axis"/>
  </joint>
  <joint name="left_hand_range" type="fixed">
    <origin rpy="0 -1.57079632679 -1.57079632679" xyz="0.032 -0.020245 0.0288"/>
    <parent link="left_hand"/>
    <child link="left_hand_range"/>
  </joint>
  <joint name="left_hand_accelerometer" type="fixed">
    <origin rpy="0 0 0" xyz="0.00198 0.000133 -0.0146"/>
    <parent link="left_hand"/>
    <child link="left_hand_accelerometer"/>
  </joint>
  <joint name="left_gripper_base" type="fixed">
    <origin rpy="0 0 0" xyz="0 0 0"/>
    <parent link="left_hand"/>
    <child link="left_gripper_base"/>
  </joint>
  <joint name="left_endpoint" type="fixed">
    <origin rpy="0 0 0" xyz="0.0 0 0.025"/>
    <parent link="left_gripper_base"/>
    <child link="left_gripper"/>
  </joint>
  <transmission name="right_tran1">
    <type>transmission_interface/SimpleTransmission</type>
    <joint name="right_s0">
      <hardwareInterface>EffortJointInterface</hardwareInterface>
    </joint>
    <actuator name="right_motor1">
      <hardwareInterface>EffortJointInterface</hardwareInterface>
      <mechanicalReduction>1</mechanicalReduction>
    </actuator>
  </transmission>
  <transmission name="right_tran2">
    <type>transmission_interface/SimpleTransmission</type>
    <joint name="right_s1">
      <hardwareInterface>EffortJointInterface</hardwareInterface>
    </joint>
    <actuator name="right_motor2">
      <hardwareInterface>EffortJointInterface</hardwareInterface>
      <mechanicalReduction>1</mechanicalReduction>
    </actuator>
  </transmission>
  <transmission name="right_tran3">
    <type>transmission_interface/SimpleTransmission</type>
    <joint name="right_e0">
      <hardwareInterface>EffortJointInterface</hardwareInterface>
    </joint>
    <actuator name="right_motor3">
      <hardwareInterface>EffortJointInterface</hardwareInterface>
      <mechanicalReduction>1</mechanicalReduction>
    </actuator>
  </transmission>
  <transmission name="right_tran4">
    <type>transmission_interface/SimpleTransmission</type>
    <joint name="right_e1">
      <hardwareInterface>EffortJointInterface</hardwareInterface>
    </joint>
    <actuator name="right_motor4">
      <hardwareInterface>EffortJointInterface</hardwareInterface>
      <mechanicalReduction>1</mechanicalReduction>
    </actuator>
  </transmission>
  <transmission name="right_tran5">
    <type>transmission_interface/SimpleTransmission</type>
    <joint name="right_w0">
      <hardwareInterface>EffortJointInterface</hardwareInterface>
    </joint>
    <actuator name="right_motor5">
      <hardwareInterface>EffortJointInterface</hardwareInterface>
      <mechanicalReduction>1</mechanicalReduction>
    </actuator>
  </transmission>
  <transmission name="right_tran6">
    <type>transmission_interface/SimpleTransmission</type>
    <joint name="right_w1">
      <hardwareInterface>EffortJointInterface</hardwareInterface>
    </joint>
    <actuator name="right_motor6">
      <hardwareInterface>EffortJointInterface</hardwareInterface>
      <mechanicalReduction>1</mechanicalReduction>
    </actuator>
  </transmission>
  <transmission name="right_tran7">
    <type>transmission_interface/SimpleTransmission</type>
    <joint name="right_w2">
      <hardwareInterface>EffortJointInterface</hardwareInterface>
    </joint>
    <actuator name="right_motor7">
      <hardwareInterface>EffortJointInterface</hardwareInterface>
      <mechanicalReduction>1</mechanicalReduction>
    </actuator>
  </transmission>
  <transmission name="left_tran1">
    <type>transmission_interface/SimpleTransmission</type>
    <joint name="left_s0">
      <hardwareInterface>EffortJointInterface</hardwareInterface>
    </joint>
    <actuator name="left_motor1">
      <hardwareInterface>EffortJointInterface</hardwareInterface>
      <mechanicalReduction>1</mechanicalReduction>
    </actuator>
  </transmission>
  <transmission name="left_tran2">
    <type>transmission_interface/SimpleTransmission</type>
    <joint name="left_s1">
      <hardwareInterface>EffortJointInterface</hardwareInterface>
    </joint>
    <actuator name="left_motor2">
      <hardwareInterface>EffortJointInterface</hardwareInterface>
      <mechanicalReduction>1</mechanicalReduction>
    </actuator>
  </transmission>
  <transmission name="left_tran3">
    <type>transmission_interface/SimpleTransmission</type>
    <joint name="left_e0">
      <hardwareInterface>EffortJointInterface</hardwareInterface>
    </joint>
    <actuator name="left_motor3">
      <hardwareInterface>EffortJointInterface</hardwareInterface>
      <mechanicalReduction>1</mechanicalReduction>
    </actuator>
  </transmission>
  <transmission name="left_tran4">
    <type>transmission_interface/SimpleTransmission</type>
    <joint name="left_e1">
      <hardwareInterface>EffortJointInterface</hardwareInterface>
    </joint>
    <actuator name="left_motor4">
      <hardwareInterface>EffortJointInterface</hardwareInterface>
      <mechanicalReduction>1</mechanicalReduction>
    </actuator>
  </transmission>
  <transmission name="left_tran5">
    <type>transmission_interface/SimpleTransmission</type>
    <joint name="left_w0">
      <hardwareInterface>EffortJointInterface</hardwareInterface>
    </joint>
    <actuator name="left_motor5">
      <hardwareInterface>EffortJointInterface</hardwareInterface>
      <mechanicalReduction>1</mechanicalReduction>
    </actuator>
  </transmission>
  <transmission name="left_tran6">
    <type>transmission_interface/SimpleTransmission</type>
    <joint name="left_w1">
      <hardwareInterface>EffortJointInterface</hardwareInterface>
    </joint>
    <actuator name="left_motor6">
      <hardwareInterface>EffortJointInterface</hardwareInterface>
      <mechanicalReduction>1</mechanicalReduction>
    </actuator>
  </transmission>
  <transmission name="left_tran7">
    <type>transmission_interface/SimpleTransmission</type>
    <joint name="left_w2">
      <hardwareInterface>EffortJointInterface</hardwareInterface>
    </joint>
    <actuator name="left_motor7">
      <hardwareInterface>EffortJointInterface</hardwareInterface>
      <mechanicalReduction>1</mechanicalReduction>
    </actuator>
  </transmission>
  <transmission name="head1">
    <type>transmission_interface/SimpleTransmission</type>
    <joint name="head_pan">
      <hardwareInterface>EffortJointInterface</hardwareInterface>
    </joint>
    <actuator name="head_motor1">
      <hardwareInterface>EffortJointInterface</hardwareInterface>
      <mechanicalReduction>1</mechanicalReduction>
    </actuator>
  </transmission>
  <gazebo>
    <plugin filename="libbaxter_gazebo_ros_control.so" name="baxter_ros_control">
      <robotNamespace>/robot</robotNamespace>
    </plugin>
  </gazebo>
  <gazebo reference="torso">
    <selfCollide>true</selfCollide>
  </gazebo>
  <gazebo reference="head_pan">
    <implicitSpringDamper>1</implicitSpringDamper>
  </gazebo>
  <gazebo reference="right_s0">
    <implicitSpringDamper>1</implicitSpringDamper>
  </gazebo>
  <gazebo reference="right_s1">
    <implicitSpringDamper>1</implicitSpringDamper>
  </gazebo>
  <gazebo reference="right_e0">
    <implicitSpringDamper>1</implicitSpringDamper>
  </gazebo>
  <gazebo reference="right_e1">
    <implicitSpringDamper>1</implicitSpringDamper>
  </gazebo>
  <gazebo reference="right_w0">
    <implicitSpringDamper>1</implicitSpringDamper>
  </gazebo>
  <gazebo reference="right_w1">
    <implicitSpringDamper>1</implicitSpringDamper>
  </gazebo>
  <gazebo reference="right_w2">
    <implicitSpringDamper>1</implicitSpringDamper>
  </gazebo>
  <gazebo reference="left_s0">
    <implicitSpringDamper>1</implicitSpringDamper>
  </gazebo>
  <gazebo reference="left_s1">
    <implicitSpringDamper>1</implicitSpringDamper>
  </gazebo>
  <gazebo reference="left_e0">
    <implicitSpringDamper>1</implicitSpringDamper>
  </gazebo>
  <gazebo reference="left_e1">
    <implicitSpringDamper>1</implicitSpringDamper>
  </gazebo>
  <gazebo reference="left_w0">
    <implicitSpringDamper>1</implicitSpringDamper>
  </gazebo>
  <gazebo reference="left_w1">
    <implicitSpringDamper>1</implicitSpringDamper>
  </gazebo>
  <gazebo reference="left_w2">
    <implicitSpringDamper>1</implicitSpringDamper>
  </gazebo>
  <gazebo reference="head_camera">
    <sensor name="head_camera" type="camera">
      <update_rate>30.0</update_rate>
      <camera name="head_camera">
        <pose>0.0 0.21 0.0 0.0 -0.8 -1.570796327 </pose>
        <horizontal_fov>1.3962634</horizontal_fov>
        <image>
          <width>800</width>
          <height>800</height>
          <format>R8G8B8</format>
        </image>
        <clip>
          <near>0.02</near>
          <far>300</far>
        </clip>
        <noise>
          <type>gaussian</type>
          <mean>0.0</mean>
          <stddev>0.007</stddev>
        </noise>
      </camera>
      <plugin filename="libgazebo_ros_camera.so" name="camera_controller">
        <alwaysOn>true</alwaysOn>
        <updateRate>0.0</updateRate>
        <cameraName>head_camera</cameraName>
        <imageTopicName>image</imageTopicName>
        <cameraInfoTopicName>camera_info</cameraInfoTopicName>
        <frameName>head_camera</frameName>
        <hackBaseline>0.07</hackBaseline>
        <distortionK1>0.0</distortionK1>
        <distortionK2>0.0</distortionK2>
        <distortionK3>0.0</distortionK3>
        <distortionT1>0.0</distortionT1>
        <distortionT2>0.0</distortionT2>
        <robotNamespace>/cameras</robotNamespace>
      </plugin>
    </sensor>
  </gazebo>
  <gazebo reference="right_hand_camera">
    <sensor name="right_hand_camera" type="camera">
      <update_rate>30.0</update_rate>
      <camera name="right_hand_camera">
        <pose>0.0 0.0 0.0 0.0 -1.570796327 1.570796327 </pose>
        <horizontal_fov>1.3962634</horizontal_fov>
        <image>
          <width>800</width>
          <height>800</height>
          <format>R8G8B8</format>
        </image>
        <clip>
          <near>0.02</near>
          <far>300</far>
        </clip>
        <noise>
          <type>gaussian</type>
          <mean>0.0</mean>
          <stddev>0.007</stddev>
        </noise>
      </camera>
      <plugin filename="libgazebo_ros_camera.so" name="camera_controller">
        <alwaysOn>true</alwaysOn>
        <updateRate>0.0</updateRate>
        <cameraName>right_hand_camera</cameraName>
        <imageTopicName>image</imageTopicName>
        <cameraInfoTopicName>camera_info</cameraInfoTopicName>
        <frameName>right_hand_camera</frameName>
        <hackBaseline>0.07</hackBaseline>
        <distortionK1>0.0</distortionK1>
        <distortionK2>0.0</distortionK2>
        <distortionK3>0.0</distortionK3>
        <distortionT1>0.0</distortionT1>
        <distortionT2>0.0</distortionT2>
        <robotNamespace>/cameras</robotNamespace>
      </plugin>
    </sensor>
  </gazebo>
  <gazebo reference="left_hand_camera">
    <sensor name="left_hand_camera" type="camera">
      <update_rate>30.0</update_rate>
      <camera name="left_hand_camera">
        <pose>0.0 0.0 0.0 0.0 -1.570796327 1.570796327 </pose>
        <horizontal_fov>1.3962634</horizontal_fov>
        <image>
          <width>800</width>
          <height>800</height>
          <format>R8G8B8</format>
        </image>
        <clip>
          <near>0.02</near>
          <far>300</far>
        </clip>
        <noise>
          <type>gaussian</type>
          <mean>0.0</mean>
          <stddev>0.007</stddev>
        </noise>
      </camera>
      <plugin filename="libgazebo_ros_camera.so" name="camera_controller">
        <alwaysOn>true</alwaysOn>
        <updateRate>0.0</updateRate>
        <cameraName>left_hand_camera</cameraName>
        <imageTopicName>image</imageTopicName>
        <cameraInfoTopicName>camera_info</cameraInfoTopicName>
        <frameName>left_hand_camera</frameName>
        <hackBaseline>0.07</hackBaseline>
        <distortionK1>0.0</distortionK1>
        <distortionK2>0.0</distortionK2>
        <distortionK3>0.0</distortionK3>
        <distortionT1>0.0</distortionT1>
        <distortionT2>0.0</distortionT2>
        <robotNamespace>/cameras</robotNamespace>
      </plugin>
    </sensor>
  </gazebo>
  <gazebo reference="display">
    <visual>
      <plugin filename="libgazebo_ros_video.so" name="screen_video_controller">
        <height>600</height>
        <width>1024</width>
        <topicName>/robot/xdisplay</topicName>
      </plugin>
    </visual>
  </gazebo>
  <gazebo reference="sonar_ring">
    <sensor name="sonar" type="ray">
      <pose>0.0 0.0 0.0 0.0 0.0 0.0</pose>
      <ray>
        <scan>
          <horizontal>
            <samples>12</samples>
            <resolution>1.0</resolution>
            <min_angle>-3.14</min_angle>
            <max_angle>3.14</max_angle>
          </horizontal>
          <vertical>
            <samples>2</samples>
            <resolution>1.0</resolution>
            <min_angle>-0.001</min_angle>
            <max_angle>0</max_angle>
          </vertical>
        </scan>
        <range>
          <min>0.05</min>
          <max>50.0</max>
        </range>
      </ray>
      <plugin filename="libgazebo_ros_block_laser.so" name="sonar_plugin">
        <gaussianNoise>0.00</gaussianNoise>
        <alwaysOn>true</alwaysOn>
        <updateRate>100.0</updateRate>
        <topicName>/robot/sonar/head_sonar/state</topicName>
        <frameName>sonar_ring</frameName>
      </plugin>
      <always_on>true</always_on>
      <update_rate>100.0</update_rate>
    </sensor>
  </gazebo>
  <gazebo reference="right_hand_range">
    <sensor name="ir_right" type="ray">
      <pose>0.0 0.0 0.0 0.0 0.0 0.0</pose>
      <ray>
        <scan>
          <horizontal>
            <samples>1</samples>
            <resolution>1.0</resolution>
            <min_angle>-0.5</min_angle>
            <max_angle>0.5</max_angle>
          </horizontal>
        </scan>
        <range>
          <min>0.004</min>
          <max>0.4</max>
        </range>
      </ray>
      <plugin filename="libgazebo_ros_laser.so" name="plugin_3">
        <gaussianNoise>0.005</gaussianNoise>
        <alwaysOn>true</alwaysOn>
        <updateRate>100</updateRate>
        <topicName>/sim/laserscan/right_hand_range/state</topicName>
        <frameName>right_hand_range</frameName>
      </plugin>
      <always_on>true</always_on>
      <update_rate>100.0</update_rate>
    </sensor>
  </gazebo>
  <gazebo reference="left_hand_range">
    <sensor name="ir_left" type="ray">
      <pose>0.0 0.0 0.0 0.0 0.0 0.0</pose>
      <ray>
        <scan>
          <horizontal>
            <samples>1</samples>
            <resolution>1.0</resolution>
            <min_angle>-0.5</min_angle>
            <max_angle>0.5</max_angle>
          </horizontal>
        </scan>
        <range>
          <min>0.004</min>
          <max>0.4</max>
        </range>
      </ray>
      <plugin filename="libgazebo_ros_laser.so" name="plugin_4">
        <gaussianNoise>0.005</gaussianNoise>
        <alwaysOn>true</alwaysOn>
        <updateRate>100</updateRate>
        <topicName>/sim/laserscan/left_hand_range/state</topicName>
        <frameName>left_hand_range</frameName>
      </plugin>
      <always_on>true</always_on>
      <update_rate>100.0</update_rate>
    </sensor>
  </gazebo>
  <link name="custom_vacuum_link">
    <visual>
      <geometry>
        <mesh filename="package://jsk_2014_picking_challenge/config/mesh/jigukai13.dae"/>
      </geometry>
      <material name="white">
        <color rgba="1 1 1 1"/>
      </material>
    </visual>
    <collision>
      <geometry>
        <cylinder length="0.14" radius="0.02"/>
      </geometry>
    </collision>
  </link>
  <link name="custom_vacuum_link_base">
    <visual>
      <geometry>
        <cylinder length="0.01" radius="0.04"/>
      </geometry>
      <material name="white">
        <color rgba="1 1 1 1"/>
      </material>
    </visual>
    <collision>
      <geometry>
        <cylinder length="0.01" radius="0.04"/>
      </geometry>
    </collision>
  </link>
  <link name="custom_vacuum_link_side">
    <visual>
      <geometry>
        <cylinder length="0.15" radius="0.02"/>
      </geometry>
      <material name="white">
        <color rgba="1 1 1 1"/>
      </material>
    </visual>
    <collision>
      <geometry>
        <cylinder length="0.15" radius="0.02"/>
      </geometry>
    </collision>
  </link>
  <link name="custom_vacuum_link_side2">
    <visual>
      <geometry>
        <cylinder length="0.12" radius="0.02"/>
      </geometry>
      <material name="white">
        <color rgba="1 1 1 1"/>
      </material>
    </visual>
    <collision>
      <geometry>
        <cylinder length="0.12" radius="0.02"/>
      </geometry>
    </collision>
  </link>
  <link name="custom_vacuum_link_side2_base">
    <visual>
      <geometry>
        <cylinder length="0.06" radius="0.035"/>
      </geometry>
      <material name="white">
        <color rgba="1 1 1 1"/>
      </material>
    </visual>
    <collision>
      <geometry>
        <cylinder length="0.06" radius="0.035"/>
      </geometry>
    </collision>
  </link>
  <joint name="right_custom_joint" type="fixed">
    <parent link="right_wrist"/>
    <child link="custom_vacuum_link"/>
    <origin rpy="0 0 0" xyz="0 0 0.18"/>
  </joint>
  <joint name="right_custom_joint_base" type="fixed">
    <parent link="right_wrist"/>
    <child link="custom_vacuum_link_base"/>
    <origin rpy="0 0 0" xyz="0 0 0.11"/>
  </joint>
  <joint name="right_custom_joint_side" type="fixed">
    <parent link="right_wrist"/>
    <child link="custom_vacuum_link_side"/>
    <origin rpy="1.57 0 0" xyz="0 0.05 0.15"/>
  </joint>
  <joint name="right_custom_joint_side2" type="fixed">
    <parent link="right_wrist"/>
    <child link="custom_vacuum_link_side2"/>
    <origin rpy="0 0 0" xyz="0 0.1 0.08"/>
  </joint>
  <joint name="right_custom_joint_side2_base" type="fixed">
    <parent link="right_wrist"/>
    <child link="custom_vacuum_link_side2_base"/>
    <origin rpy="0 0 0" xyz="0 0.1 0.04"/>
  </joint>
</robot>
